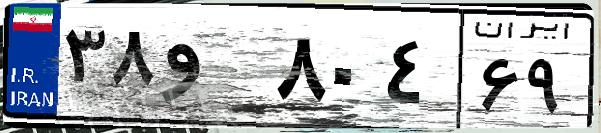0: (330, 28, 385, 110)
3: (57, 26, 110, 100)
4: (385, 28, 445, 110)
6: (475, 38, 525, 113)
8: (270, 28, 330, 110), (110, 28, 158, 98)
9: (525, 38, 570, 115)
و: (158, 20, 270, 120)
